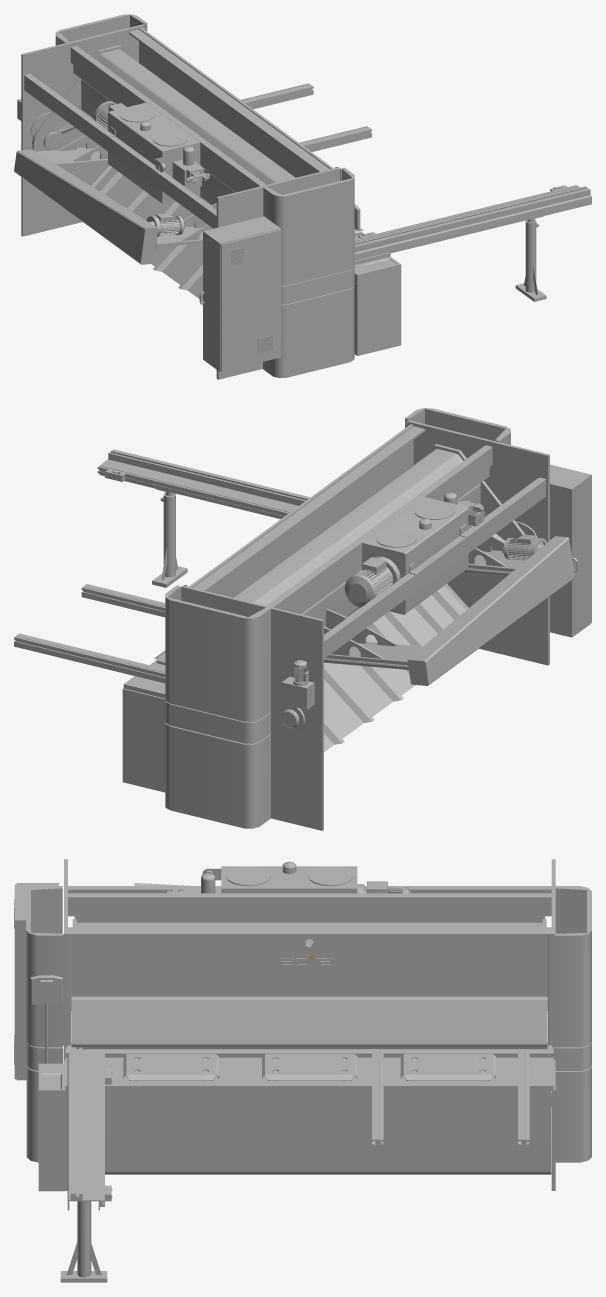
3 views of the same model, one above another, from view 1: azimuth 30°, elevation 25°; view 2: azimuth 150°, elevation 25°; view 3: azimuth 270°, elevation 25° (orthographic). The views are drawn at different scales.
Visible parts, largest first — view 1: GH630_SideBox, GH630_Structure1, GH630_Locker, GH630_TopBar, GH630_BackStructure1, GH630_BackBox, pasted__GV_1642_FrontStruct, GH630_TopBox, ArmSupport, GH630_BackStructure, pasted__GV_1642_FrontBars, GH630_Hidraulic (+1 smaller); view 2: GH630_Structure1, GH630_SideBox, GH630_TopBar, GH630_BackStructure1, GH630_BackBox, GH630_BackStructure, pasted__GV_1642_FrontStruct, GH630_TopBox, GH630_Locker, pasted__GV_1642_FrontBars, GH630_Hidraulico3, GH630_Hidraulico (+1 smaller); view 3: GH630_Structure1, GH630_Front, GH630_TopBar, GH630_SideBox, pasted__GV_1642_FrontStruct, GH630_TopBox, ArmSupport, GH630_BackBox, GH630_SmallTable4, GH630_SmallTable2, GH630_SmallTable3, GH630_Locker (+3 smaller).
Part boxes in pixels (x1,y1,x2,y2): GH630_SideBox: (55,14,354,377); GH630_Structure1: (21,24,390,379); GH630_Locker: (199,216,281,371); GH630_TopBar: (24,29,329,228); GH630_BackStructure1: (14,135,216,264); GH630_BackBox: (32,45,295,205); pasted__GV_1642_FrontStruct: (354,185,591,301); GH630_TopBox: (104,102,200,204); ArmSupport: (354,257,401,355); GH630_BackStructure: (91,165,210,304); pasted__GV_1642_FrontBars: (241,83,371,151); GH630_Hidraulic: (172,146,209,189); GH630_Structure1: (122,420,549,830); GH630_SideBox: (165,408,510,828); GH630_TopBar: (193,426,546,658); GH630_BackStructure1: (324,525,574,685); GH630_BackBox: (233,444,525,626); GH630_BackStructure: (324,584,468,751); pasted__GV_1642_FrontStruct: (97,449,310,587); GH630_TopBox: (362,497,485,614); GH630_Locker: (550,464,591,637); pasted__GV_1642_FrontBars: (14,584,165,683); GH630_Hidraulico3: (344,556,400,607); GH630_Hidraulico: (281,676,314,709); GH630_Structure1: (64,859,555,1190); GH630_Front: (71,996,547,1049); GH630_TopBar: (68,886,551,932); GH630_SideBox: (26,886,591,1162); pasted__GV_1642_FrontStruct: (60,1047,112,1282); GH630_TopBox: (202,861,357,893); ArmSupport: (38,1063,65,1191); GH630_BackBox: (72,919,546,945); GH630_SmallTable4: (400,1054,495,1081); GH630_SmallTable2: (123,1054,218,1081); GH630_SmallTable3: (262,1054,357,1081); GH630_Locker: (14,883,58,1080).
Size of the model in its own units: 417 by 176 by 394.
